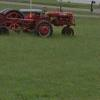Tractor: (7, 2, 84, 45)
